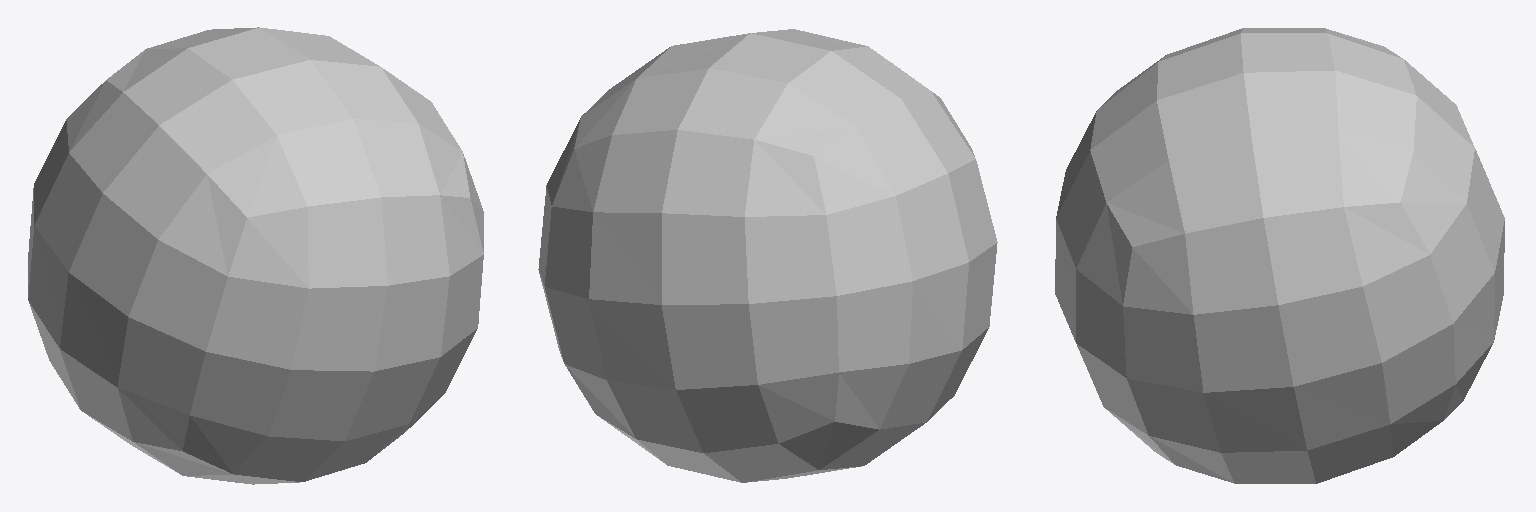
Rendered from Paper_weight.obj.
3 renders of one model, left to right at view 1: azimuth 30°, elevation 25°; view 2: azimuth 150°, elevation 25°; view 3: azimuth 270°, elevation 25°, orthographic.
Visible parts, largest first — view 1: Cube.001; view 2: Cube.001; view 3: Cube.001.
Part boxes in pixels (left/top/right/bottom): Cube.001: left=28, top=27, right=483, bottom=484; Cube.001: left=538, top=29, right=997, bottom=482; Cube.001: left=1055, top=28, right=1504, bottom=483.
Size of the model in its own units: 4.15 by 4.08 by 4.14.